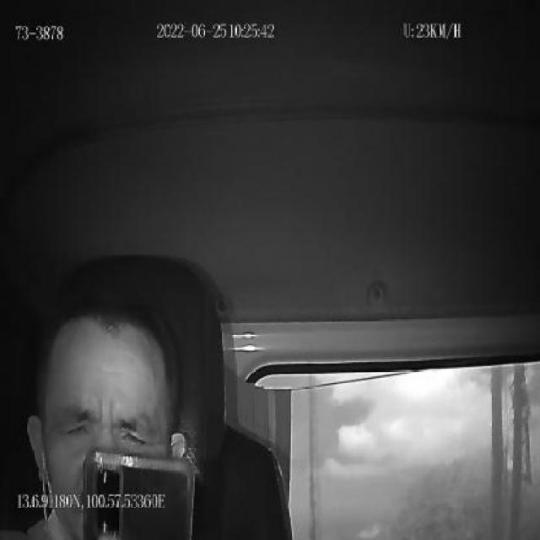phone: (80, 444, 195, 540)
